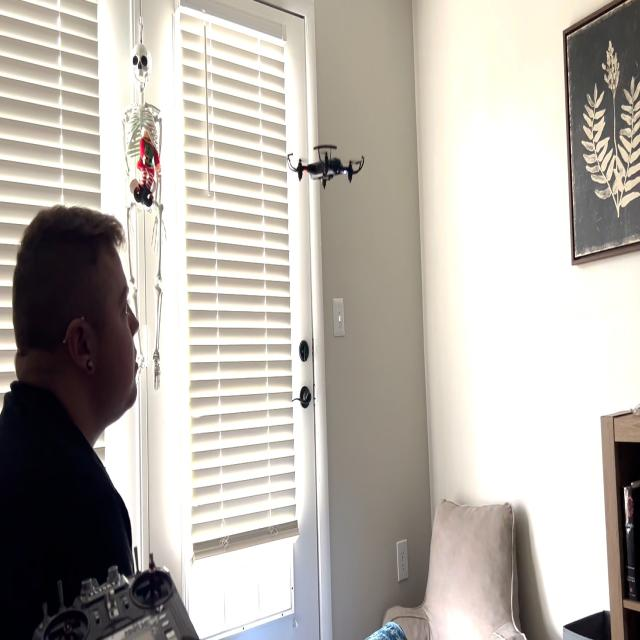drone: (281, 138, 368, 201)
